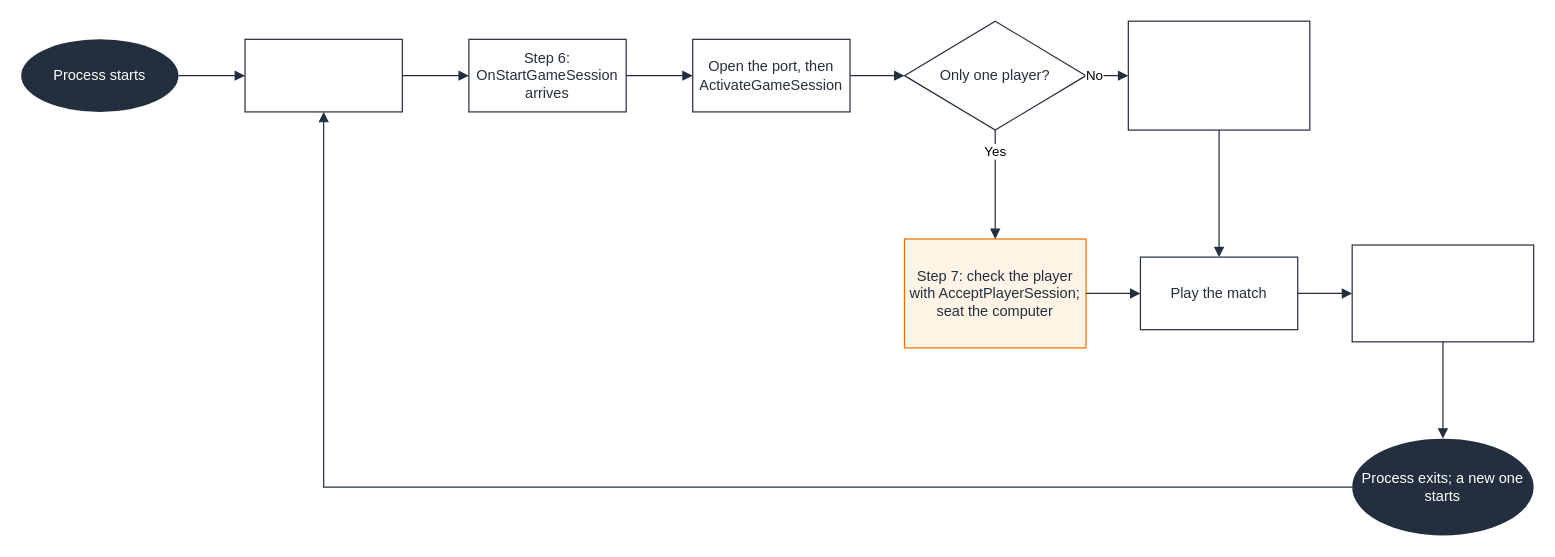
Some shapes in this 1555 by 557 pixel diagram are drawn without their labels. The shapes that lost their labels are listed below. From the top down, each one's centre as x and y in pixels, then its label:
At point 323,75: "Step 1: InitSDK, then ProcessReady".
At point 1218,75: "Step 7: check each player with AcceptPlayerSession; wait for the second player".
At point 1442,293: "RemovePlayerSession for each player, then ProcessEnding".
